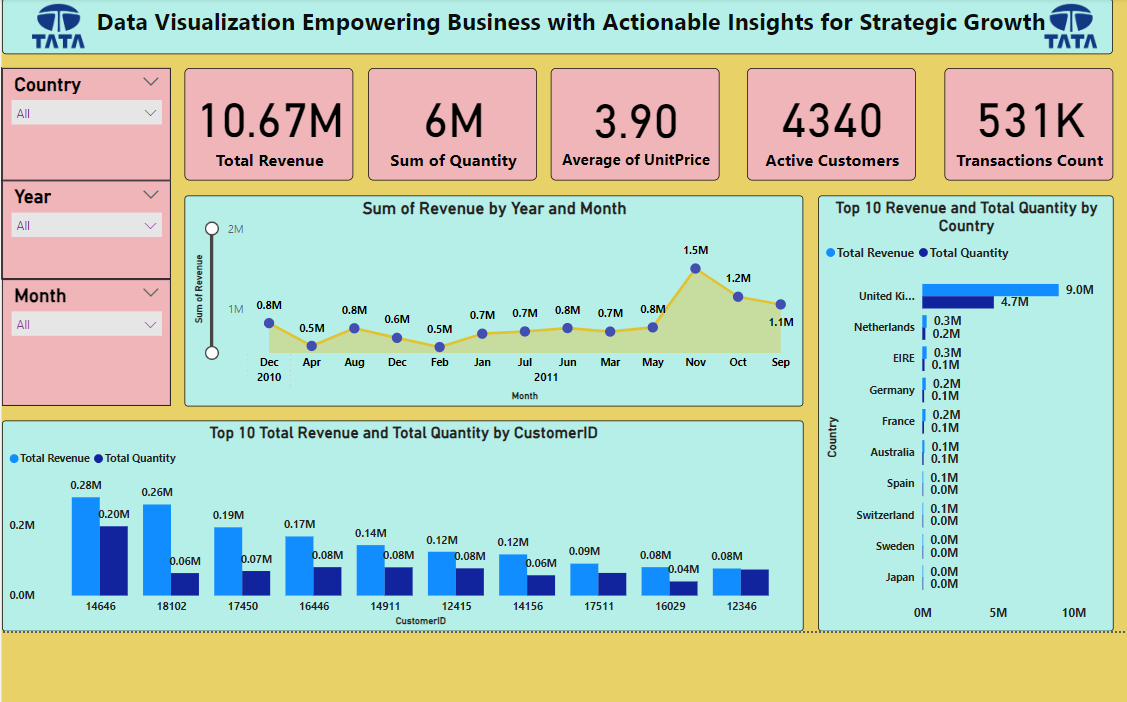

What the dashboard file says about the page in this screenshot:
{"tool":"powerbi","page":{"name":"TATA","canvas":[1280,720],"ordinal":0},"visuals":[{"type":"textbox","box":[0,0,1264,64],"z":0},{"type":"image","box":[0,0,128,64],"z":1000},{"type":"image","box":[1152,0,128,64],"z":2000},{"type":"card","fields":{"Values":["Online Retail.Total Revenue"]},"box":[208,80,192,128],"z":3000},{"type":"card","fields":{"Values":["Sum(Online Retail.Quantity)"]},"box":[416,80,192,128],"z":4000},{"type":"card","fields":{"Values":["Avg(Online Retail.UnitPrice)"]},"box":[624,80,192,128],"z":5000},{"type":"card","fields":{"Values":["Online Retail.Active Customers"]},"box":[848,80,192,128],"z":6000},{"type":"card","fields":{"Values":["Online Retail.Transactions Count"]},"box":[1072,80,192,128],"z":7000},{"type":"shape","box":[0,80,192,384],"z":8000},{"type":"slicer","fields":{"Values":["Online Retail.Country"]},"box":[0,80,192,128],"z":9000},{"type":"areaChart","fields":{"Y":["Sum(Online Retail.Revenue)"],"Category":["Online Retail.Year","Online Retail.Month"]},"box":[208,224,704,240],"z":10000},{"type":"clusteredBarChart","title":"Top 10 Revenue and Total Quantity by Country","fields":{"Category":["Online Retail.Country"],"Y":["Online Retail.Total Revenue","Online Retail.Total Quantity"]},"box":[928,224,336,496],"z":11000},{"type":"clusteredColumnChart","title":"Top 10 Total Revenue and Total Quantity by CustomerID","fields":{"Y":["Online Retail.Total Revenue","Online Retail.Total Quantity"],"Category":["Online Retail.CustomerID"]},"box":[0,480,912,240],"z":12000},{"type":"slicer","fields":{"Values":["Online Retail.Year"]},"box":[0,208,192,112],"z":13000},{"type":"slicer","fields":{"Values":["Online Retail.Month"]},"box":[0,320,192,144],"z":14000}]}

Visuals, with their boxes on the page's 1280x720 design canvas (x1, y1, x2, y2). These are canvas units, not pixel positions in the 1127x702 screenshot, which may show the page scaled, cropped or inside an application window:
textbox: BBox(0, 0, 1264, 64)
image: BBox(0, 0, 128, 64)
image: BBox(1152, 0, 1280, 64)
card - Online Retail.Total Revenue: BBox(208, 80, 400, 208)
card - Sum(Online Retail.Quantity): BBox(416, 80, 608, 208)
card - Avg(Online Retail.UnitPrice): BBox(624, 80, 816, 208)
card - Online Retail.Active Customers: BBox(848, 80, 1040, 208)
card - Online Retail.Transactions Count: BBox(1072, 80, 1264, 208)
shape: BBox(0, 80, 192, 464)
slicer - Online Retail.Country: BBox(0, 80, 192, 208)
areaChart - Sum(Online Retail.Revenue) x Online Retail.Year: BBox(208, 224, 912, 464)
"Top 10 Revenue and Total Quantity by Country" clusteredBarChart: BBox(928, 224, 1264, 720)
"Top 10 Total Revenue and Total Quantity by CustomerID" clusteredColumnChart: BBox(0, 480, 912, 720)
slicer - Online Retail.Year: BBox(0, 208, 192, 320)
slicer - Online Retail.Month: BBox(0, 320, 192, 464)
